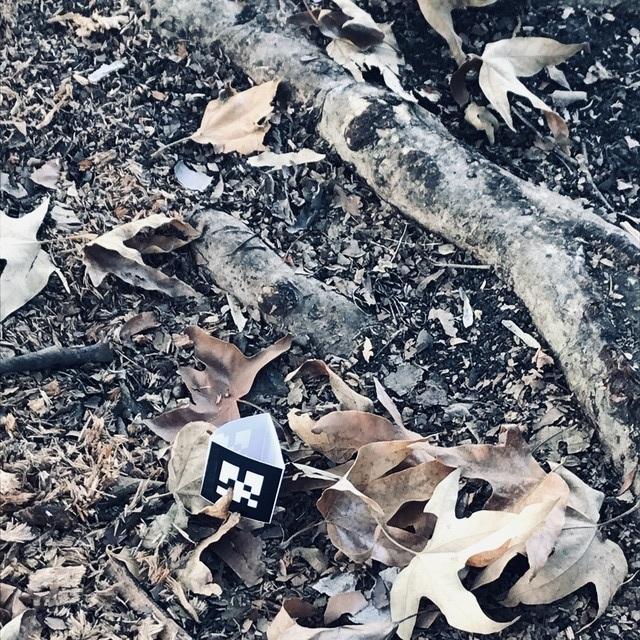ARTag: (200, 411, 284, 527)
